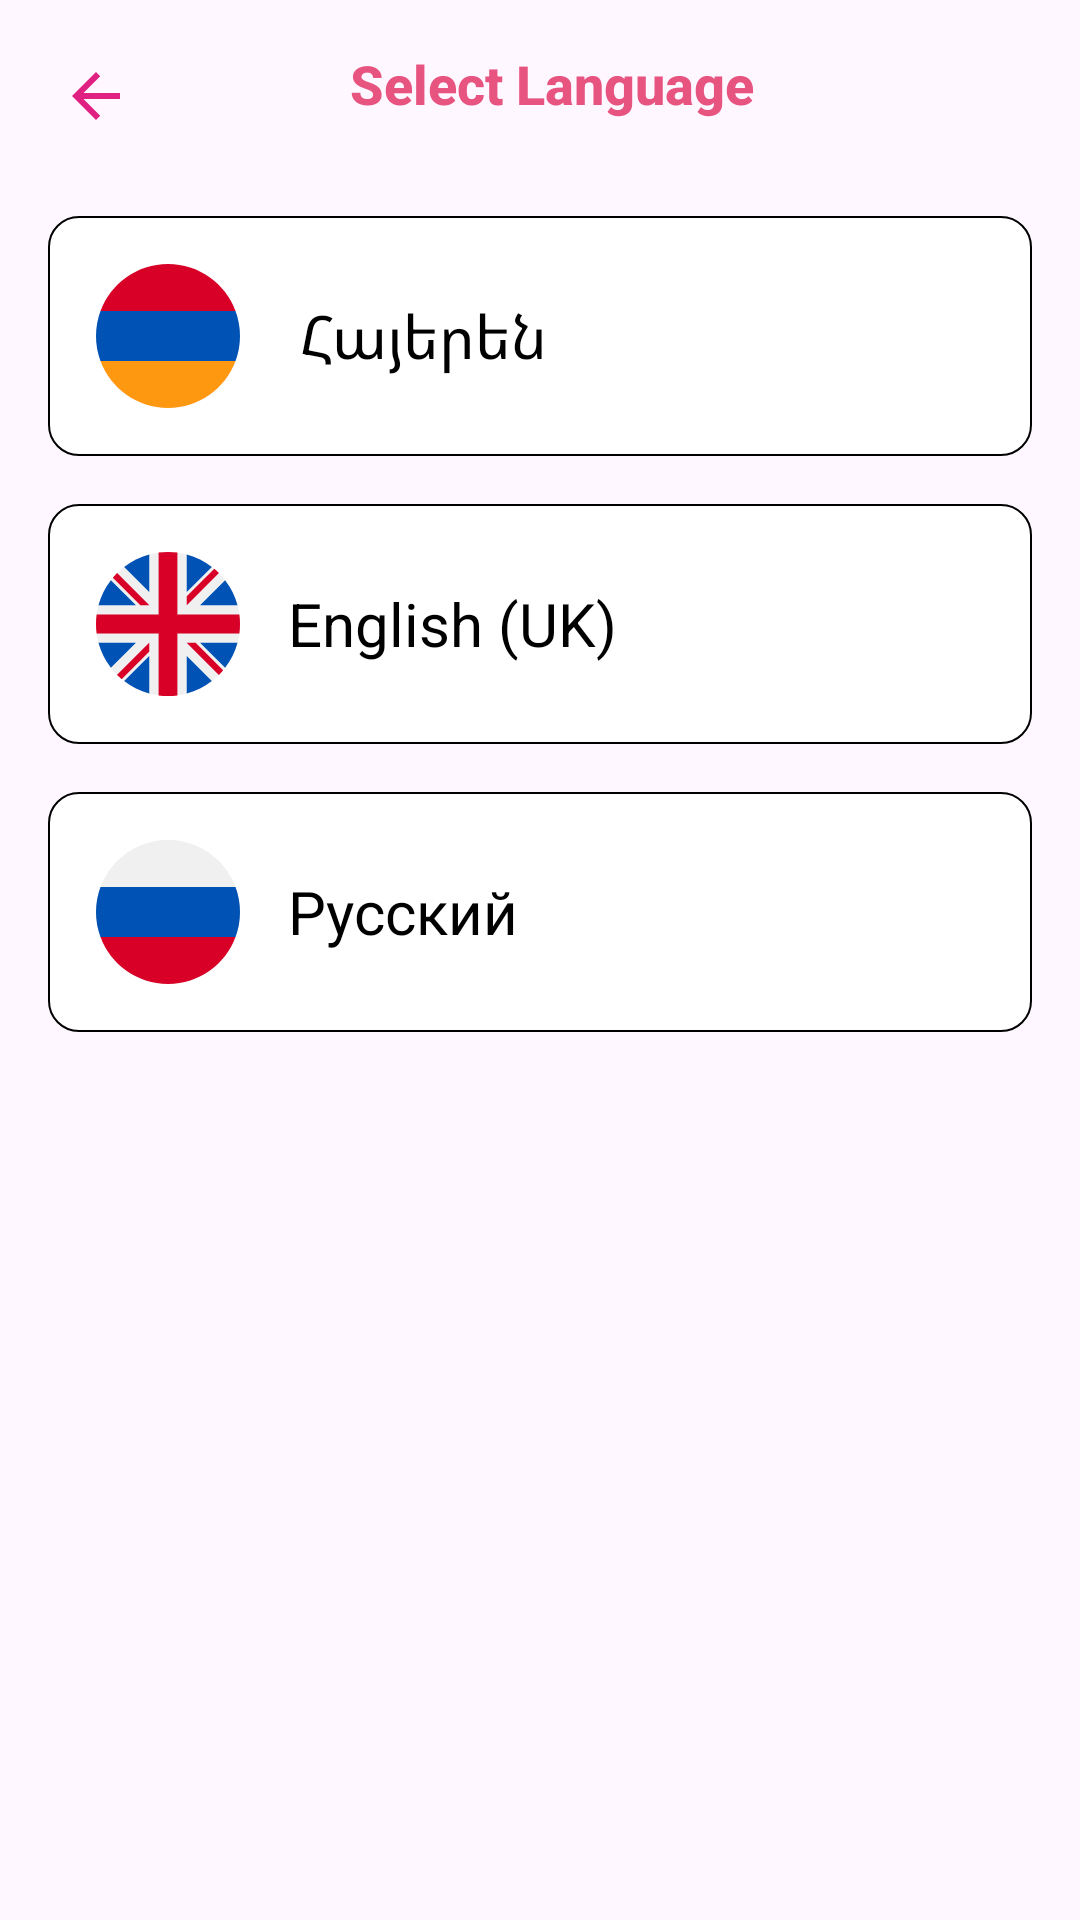

Icons on this 1080 x 1920 Android screen, each with its box as rect(x1, y1, x2, y2):
armenia: rect(96, 264, 240, 408)
ukingdom: rect(96, 552, 240, 696)
